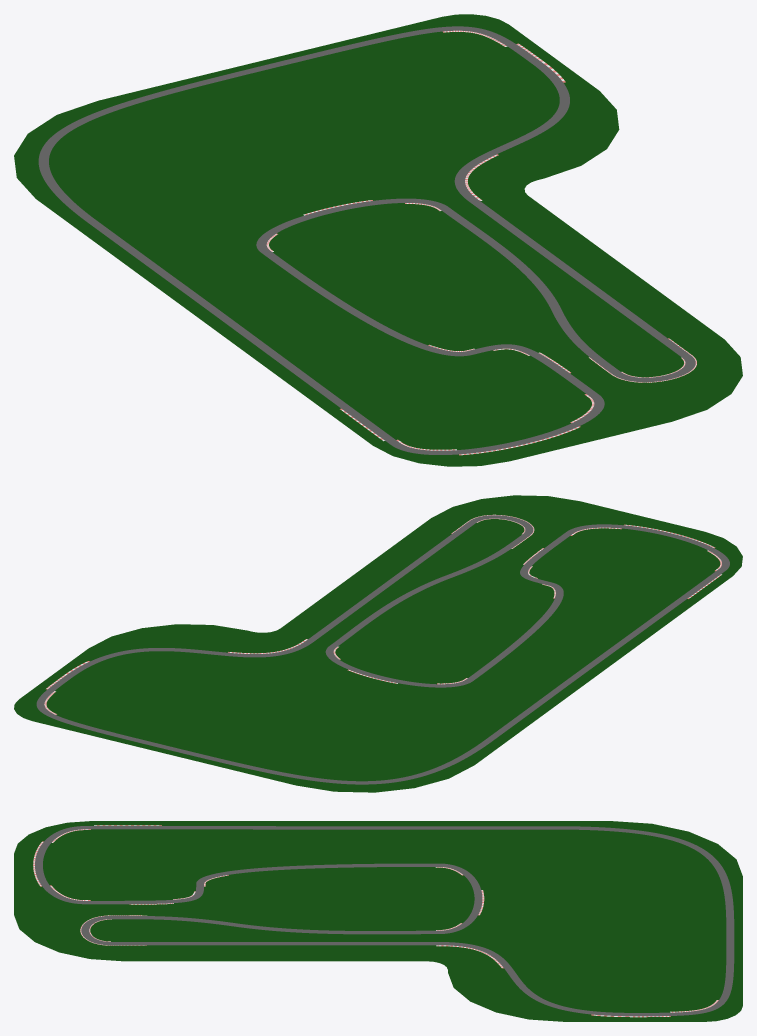
Rendered from track.glb.
3 renders of one model, top to bottom at view 1: azimuth 30°, elevation 25°; view 2: azimuth 150°, elevation 25°; view 3: azimuth 270°, elevation 25°, orthographic. The views are drawn at different scales.
Visible parts, largest first — view 1: Ground, Track; view 2: Ground, Track; view 3: Ground, Track.
Boxes of the visible parts, <box> form: Ground: <box>14,14,742,466</box>; Track: <box>38,26,696,455</box>; Ground: <box>14,495,742,792</box>; Track: <box>36,514,729,784</box>; Ground: <box>14,821,742,1021</box>; Track: <box>33,825,734,1017</box>.
Size of the model in its own units: 538 by 0.3274 by 825.
